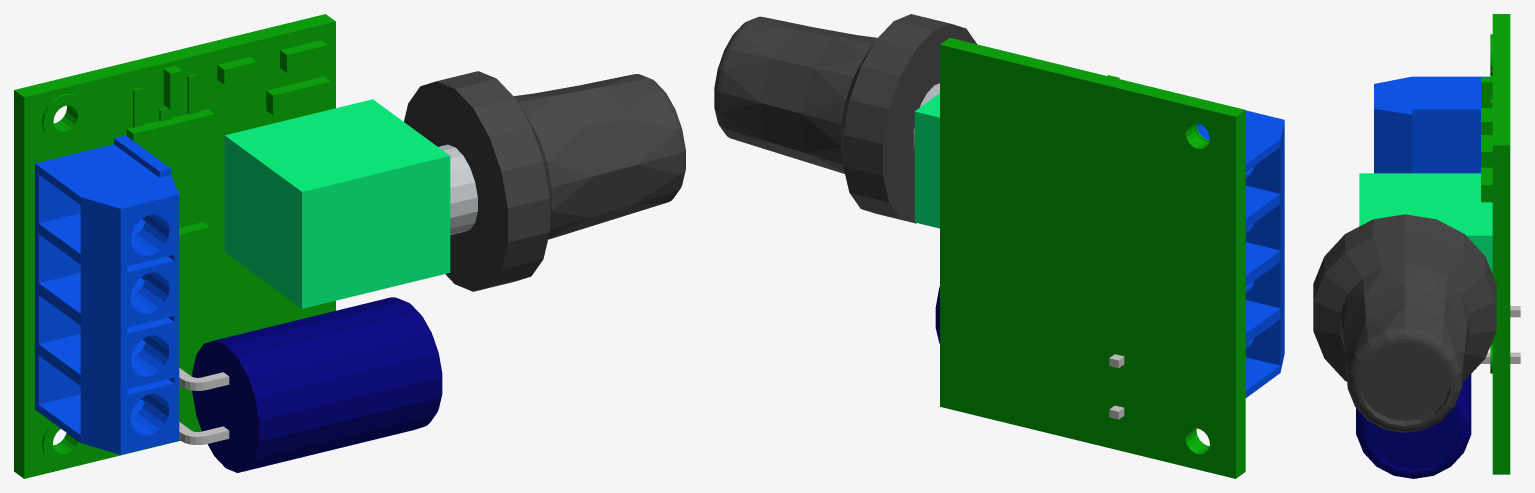
Rendered from Controlador  velocidad Motor PWM-Grupo.obj.
3 views of the same model, side by side, from view 1: azimuth 30°, elevation 25°; view 2: azimuth 150°, elevation 25°; view 3: azimuth 270°, elevation 25° (orthographic). The views are drawn at different scales.
Parts seen in each view (by area): view 1: Body, Body005, Body003, Body001, Body004, Body002, Body006, Body007; view 2: Body, Body003, Body005, Body001; view 3: Body003, Body005, Body, Body001, Body004.
Part boxes in pixels (box(x1,y1,x2,y2)): Body: box(14, 14, 335, 478); Body005: box(35, 135, 179, 454); Body003: box(404, 71, 685, 291); Body001: box(224, 99, 450, 308); Body004: box(192, 297, 442, 472); Body002: box(438, 144, 477, 234); Body006: box(179, 368, 229, 390); Body007: box(179, 422, 229, 444); Body: box(940, 38, 1245, 478); Body003: box(714, 14, 976, 223); Body005: box(1197, 110, 1284, 397); Body001: box(914, 93, 939, 228); Body003: box(1313, 214, 1496, 432); Body005: box(1374, 76, 1489, 173); Body: box(1481, 14, 1510, 474); Body001: box(1359, 173, 1492, 273); Body004: box(1356, 374, 1471, 478).
Bounding box in the file's own units: 49.54 × 31 × 17.7.
